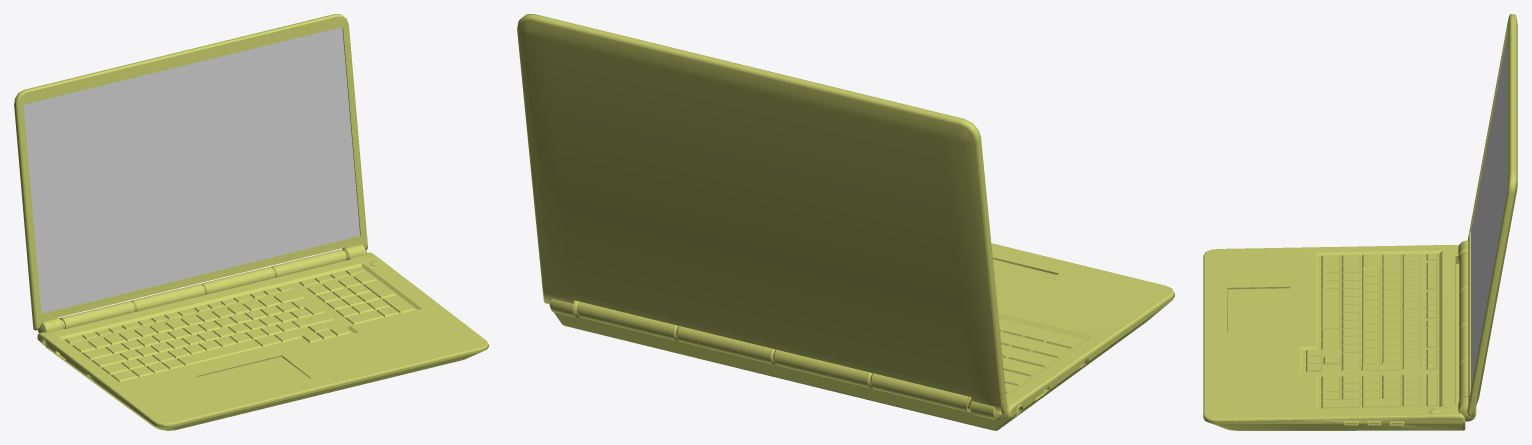
Rendered from Laptop_1.fbx.
The picture shows the model from 3 angles, left to right: view 1: azimuth 30°, elevation 25°; view 2: azimuth 150°, elevation 25°; view 3: azimuth 270°, elevation 25°; orthographic projection. The views are drawn at different scales.
Parts seen in each view (by area): view 1: Laptop_1; view 2: Laptop_1; view 3: Laptop_1.
Boxes of the visible parts, x1,y1,x2,y2 form: Laptop_1: (14, 14, 488, 430); Laptop_1: (517, 14, 1174, 430); Laptop_1: (1203, 14, 1517, 430).
Bounding box in the file's own units: 35.73 × 24.92 × 27.61.
